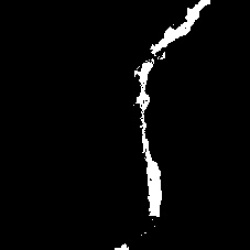crack: (134, 1, 208, 218)
